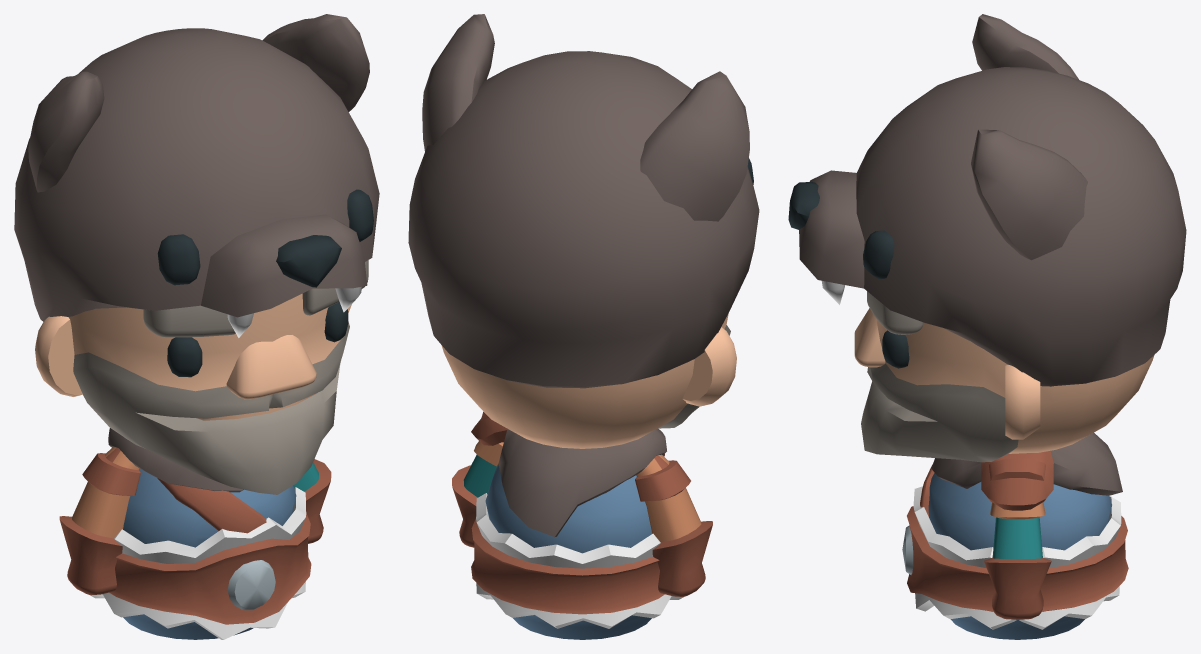
Rendered from BarbarBody.fbx.
3 renders of one model, left to right at view 1: azimuth 30°, elevation 25°; view 2: azimuth 150°, elevation 25°; view 3: azimuth 270°, elevation 25°, orthographic. The views are drawn at different scales.
Parts seen in each view (by area): view 1: character_barbarianHat, character_barbarianHead, character_barbarian, character_rogueArmRight, character_rogueArmLeft; view 2: character_barbarianHat, character_barbarian, character_barbarianHead, character_rogueArmRight, character_rogueArmLeft; view 3: character_barbarianHat, character_barbarian, character_barbarianHead, character_rogueArmLeft.
Part boxes in pixels (<box>): character_barbarianHat: <box>14,14,379,337</box>; character_barbarianHead: <box>35,260,368,494</box>; character_barbarian: <box>90,428,311,639</box>; character_rogueArmRight: <box>59,447,140,595</box>; character_rogueArmLeft: <box>293,459,331,543</box>; character_barbarianHat: <box>408,14,759,388</box>; character_barbarian: <box>471,412,683,639</box>; character_barbarianHead: <box>441,313,736,448</box>; character_rogueArmRight: <box>635,454,712,596</box>; character_rogueArmLeft: <box>452,441,503,547</box>; character_barbarianHat: <box>788,14,1186,386</box>; character_barbarian: <box>902,432,1128,639</box>; character_barbarianHead: <box>854,291,1154,462</box>; character_rogueArmLeft: <box>984,502,1051,619</box>.
Size of the model in its own units: 122 by 205 by 138.
